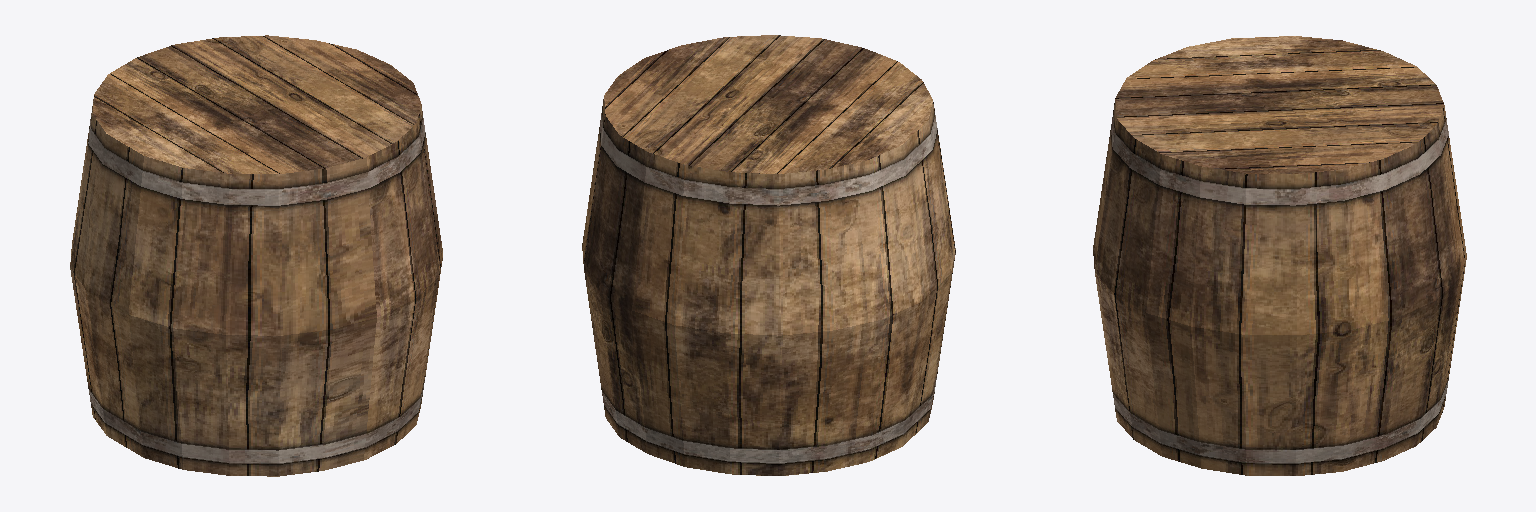
The picture shows the model from 3 angles: view 1: azimuth 30°, elevation 25°; view 2: azimuth 150°, elevation 25°; view 3: azimuth 270°, elevation 25°; orthographic projection.
Visible parts, largest first — view 1: Circle; view 2: Circle; view 3: Circle.
Part boxes in pixels (left/top/right/bottom): Circle: left=70, top=35, right=442, bottom=476; Circle: left=582, top=35, right=955, bottom=475; Circle: left=1093, top=36, right=1466, bottom=475.
Size of the model in its own units: 1.32 by 1.18 by 1.33.
1 materials, 1 textured.